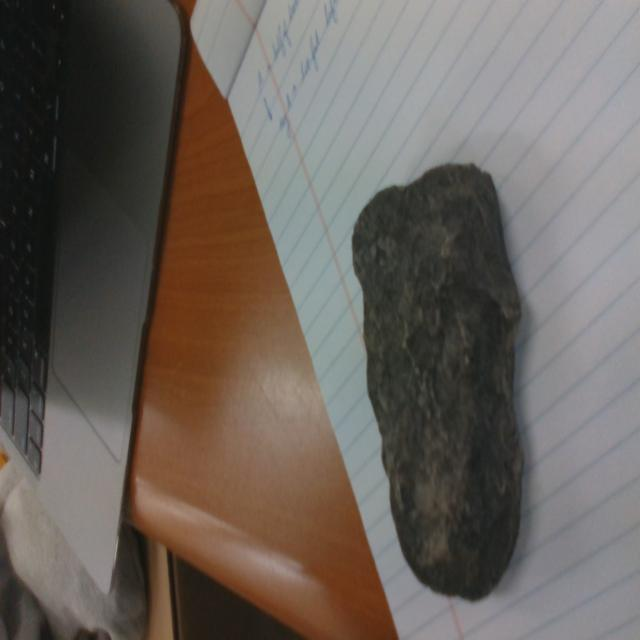stone: (352, 162, 525, 598)
